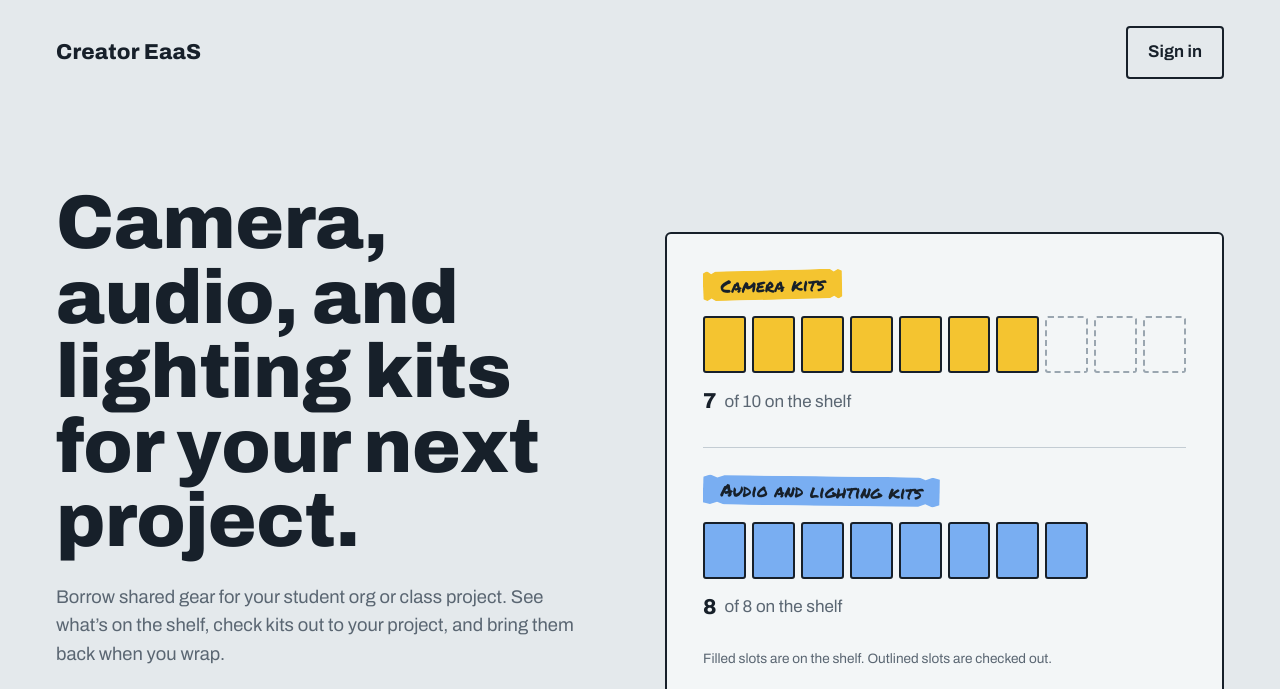
Test: signing in opens the project picker
Expected: the text "Camera kits" is shown, [703,268,843,301]
Click the button "Sign in" in the row of "Creator EaaS". click: [1175, 52]
box: [1126,26,1224,79]
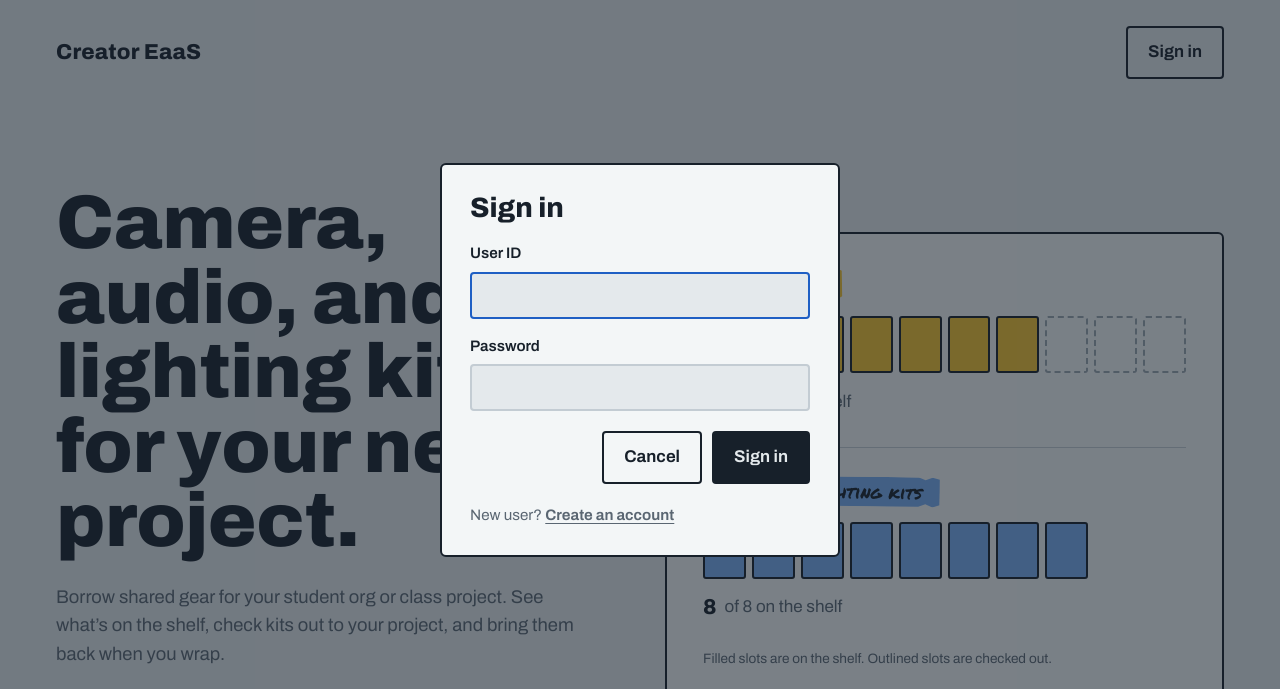
Type "alice" into the field labelled "User ID". click: [640, 295]
box: [470,272,810,318]
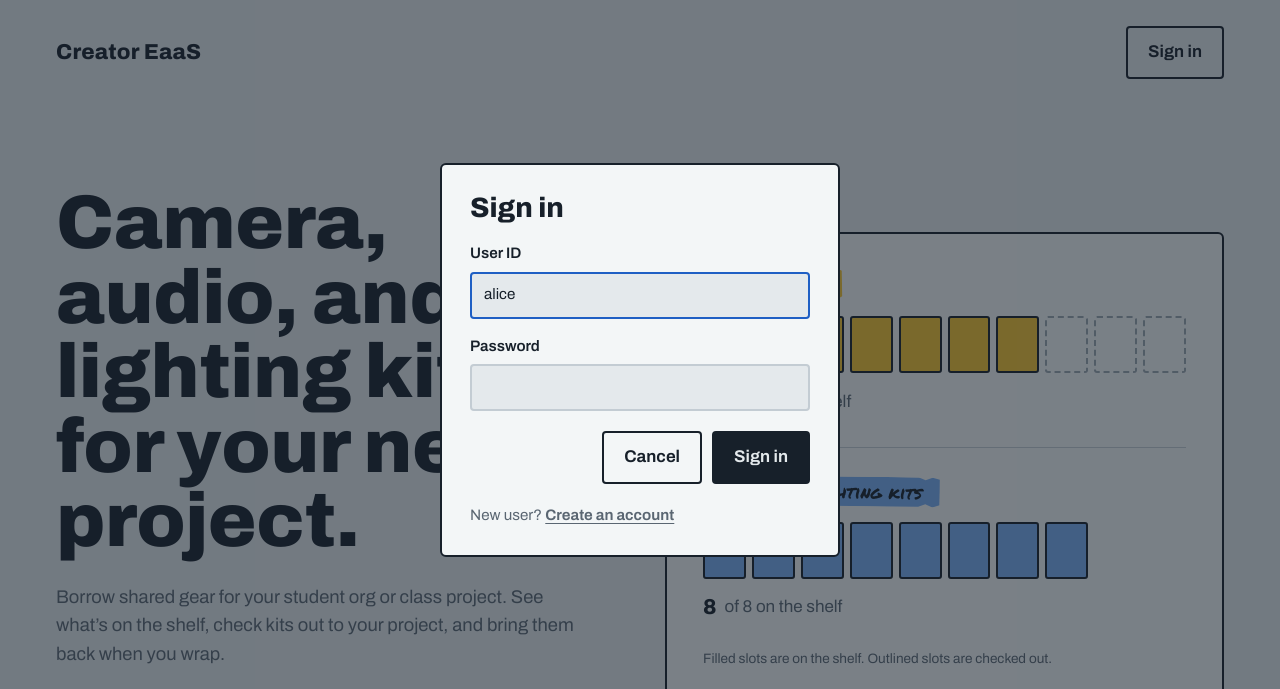
Type "pw-123" into the password field labelled "Password". click: [640, 387]
box: [470,364,810,411]
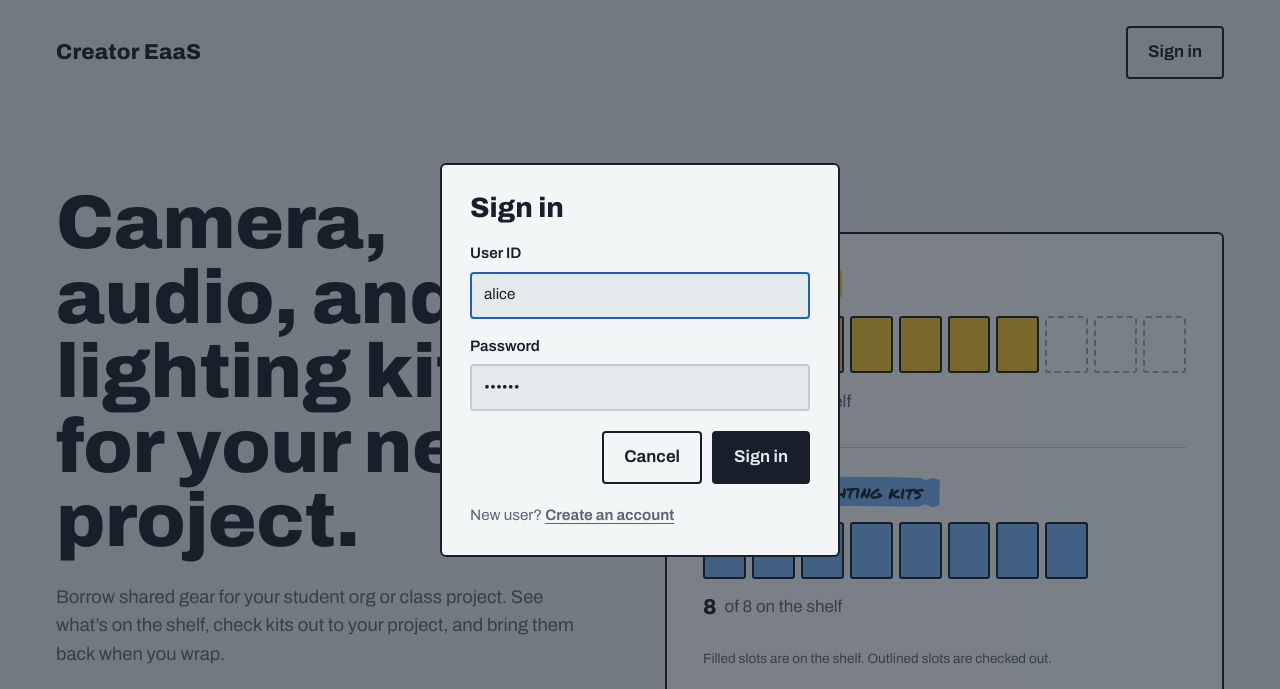
Click the button "Sign in". click: [761, 457]
box: [712,431,810,484]
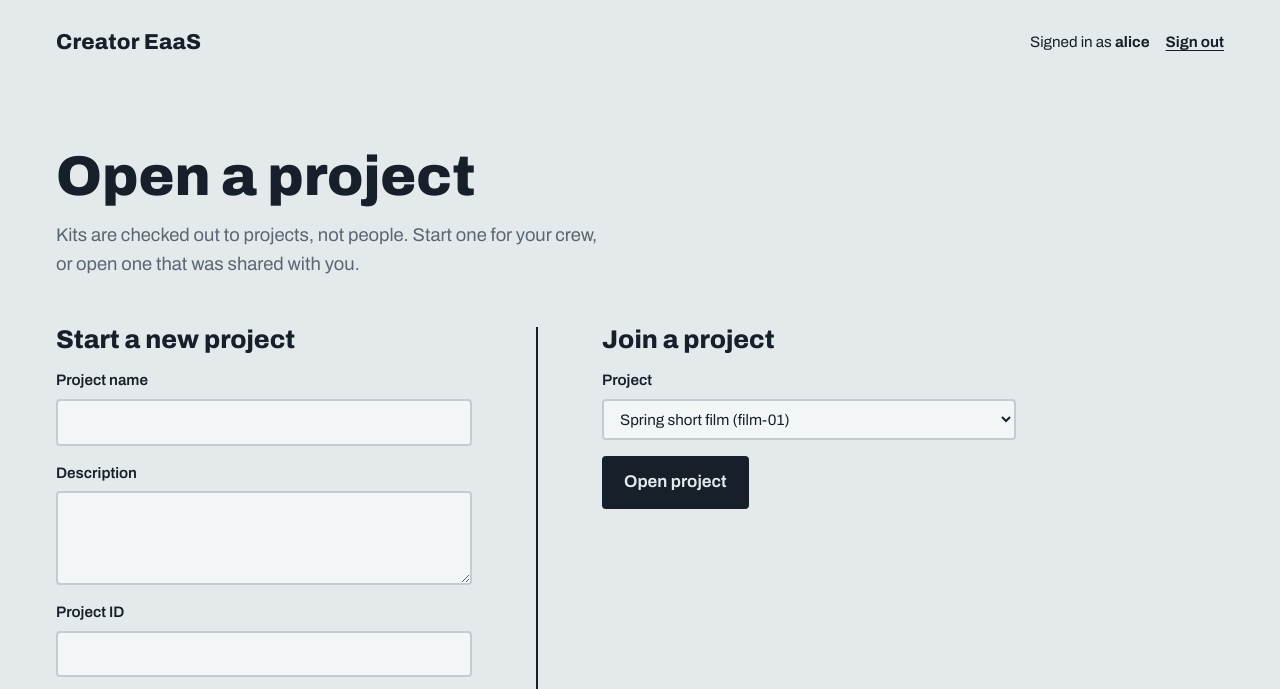
Expected: the heading "Open a project" is shown, [56,146,475,208]
Result: the header shows "Signed in as alice" at [56,30,1224,54]
Result: the dialog is gone
